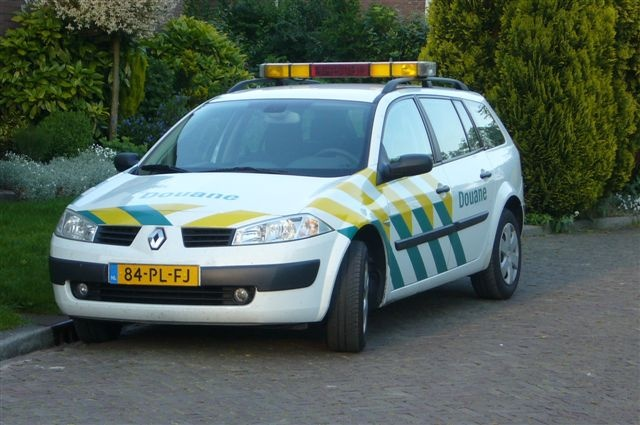number_plate: (107, 264, 201, 288)
